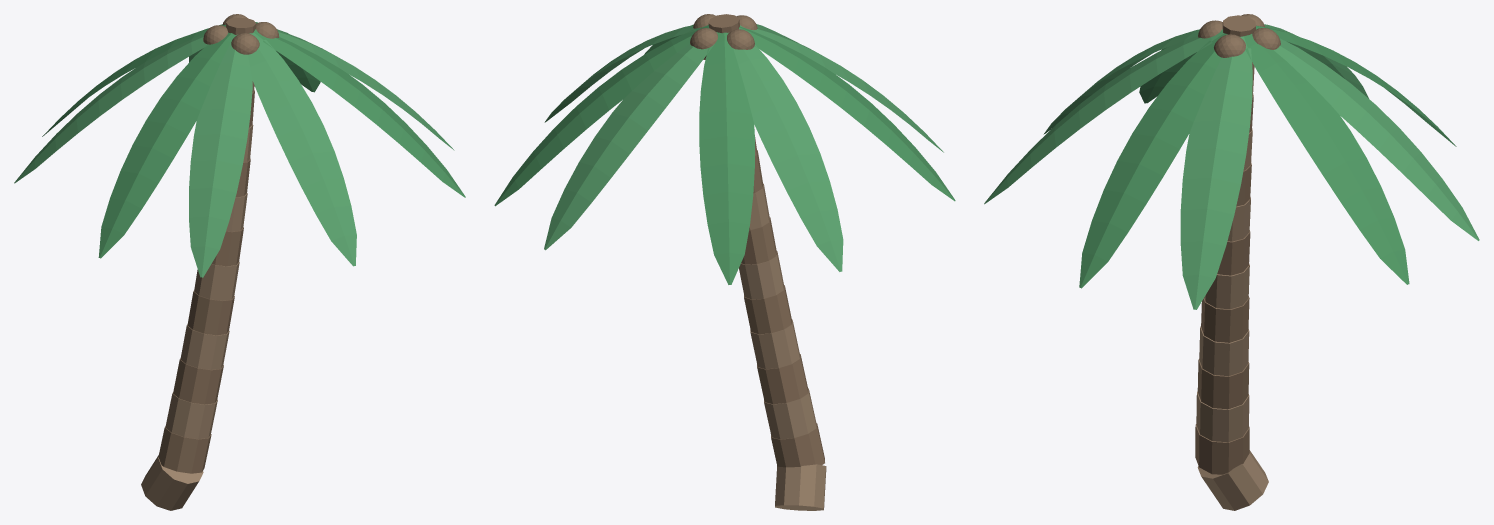
File: coconut_palm.glb
The picture shows the model from 3 angles, left to right: view 1: azimuth 30°, elevation 25°; view 2: azimuth 150°, elevation 25°; view 3: azimuth 270°, elevation 25°; orthographic projection. The views are drawn at different scales.
Visible parts, largest first — view 1: geometry_0; view 2: geometry_0; view 3: geometry_0.
Boxes of the visible parts, <box> form: geometry_0: <box>14,14,465,510</box>; geometry_0: <box>494,14,955,510</box>; geometry_0: <box>984,14,1479,510</box>.
Bounding box in the file's own units: 6.1 × 7.2 × 6.18.
